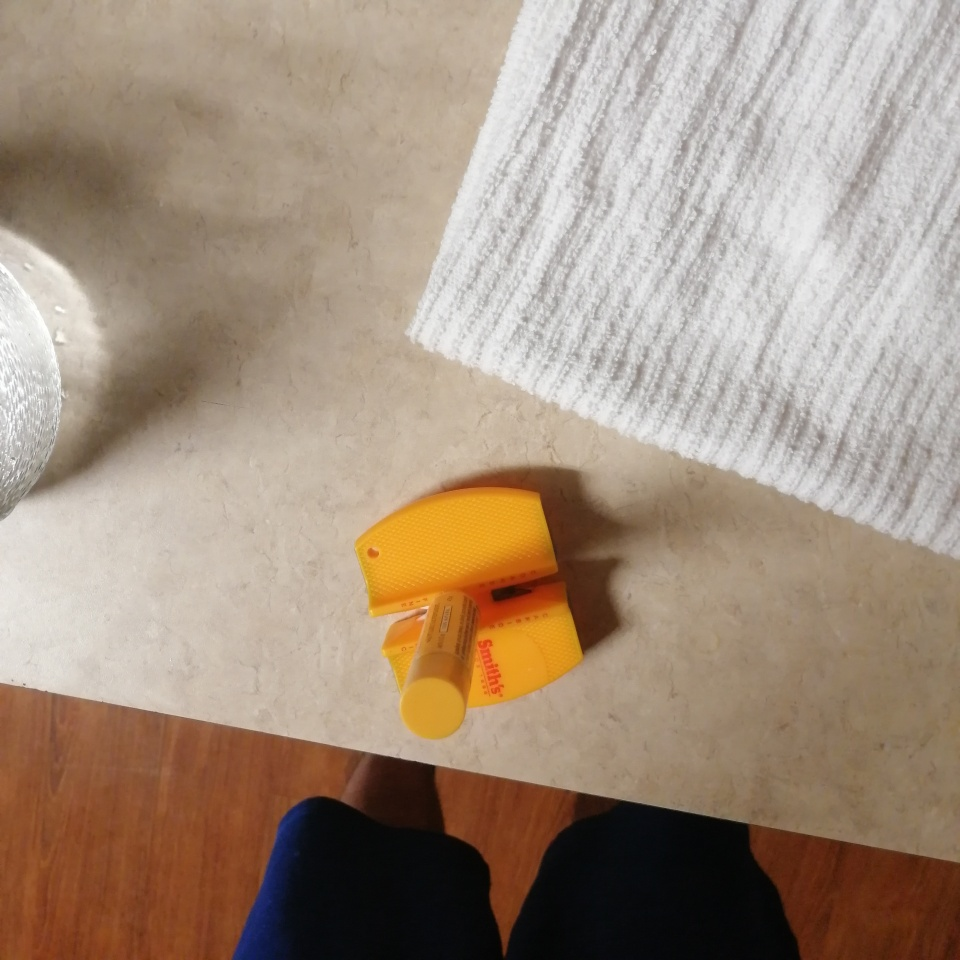chapstick: (399, 591, 479, 741)
